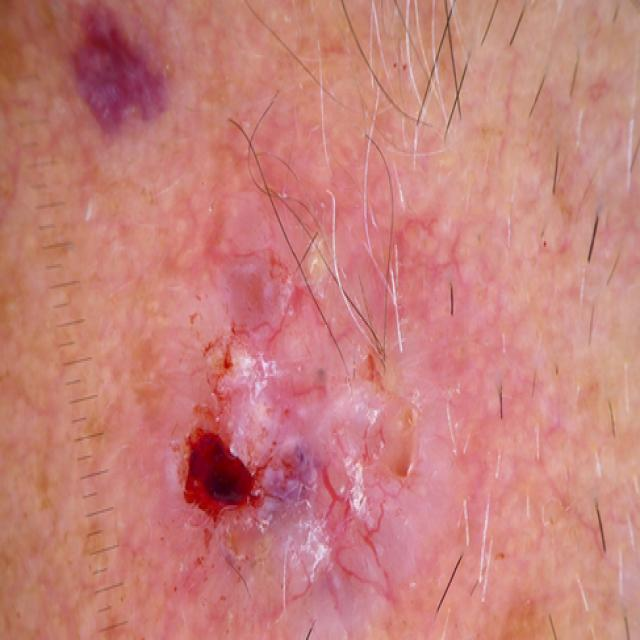Carcinoma: (133, 241, 434, 640), (61, 11, 201, 156)
